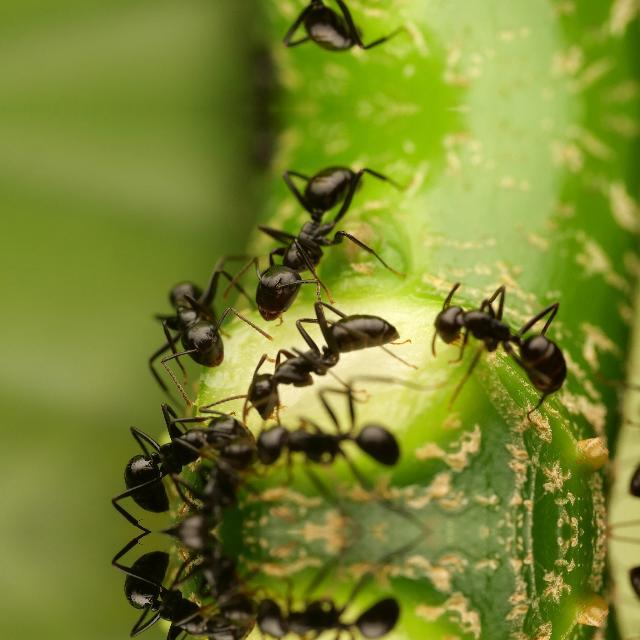Colobopsis: (216, 146, 398, 320), (410, 283, 594, 407), (84, 391, 253, 523), (229, 298, 415, 416), (84, 540, 252, 640), (220, 406, 418, 490), (220, 572, 416, 640), (216, 0, 397, 70), (132, 266, 244, 374)
